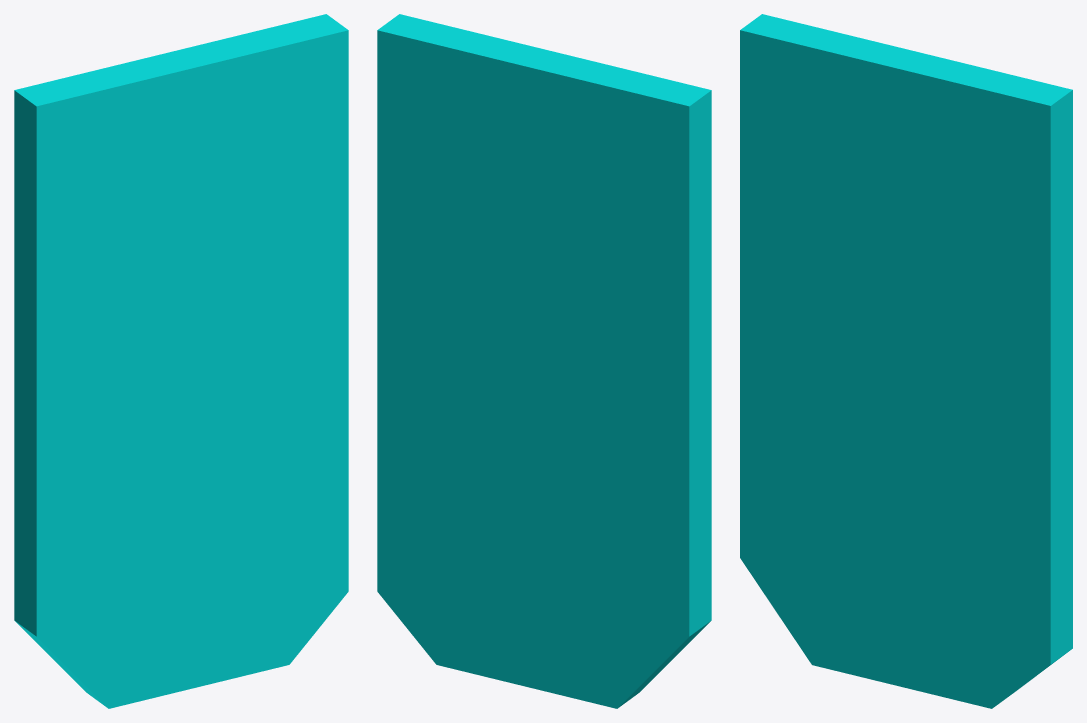
Rendered from SM_Prop_Shed_01_Door_01_Collision.fbx.
3 views of the same model, side by side, from view 1: azimuth 30°, elevation 25°; view 2: azimuth 150°, elevation 25°; view 3: azimuth 330°, elevation 25° (orthographic).
Visible parts, largest first — view 1: SM_Prop_Shed_01_Door_01_Collision; view 2: SM_Prop_Shed_01_Door_01_Collision; view 3: SM_Prop_Shed_01_Door_01_Collision.
Part boxes in pixels (bbox=[...]): SM_Prop_Shed_01_Door_01_Collision: bbox=[14, 14, 348, 708]; SM_Prop_Shed_01_Door_01_Collision: bbox=[377, 14, 711, 708]; SM_Prop_Shed_01_Door_01_Collision: bbox=[740, 14, 1072, 708].
Bounding box in the file's own units: 114 × 216 × 13.99.
